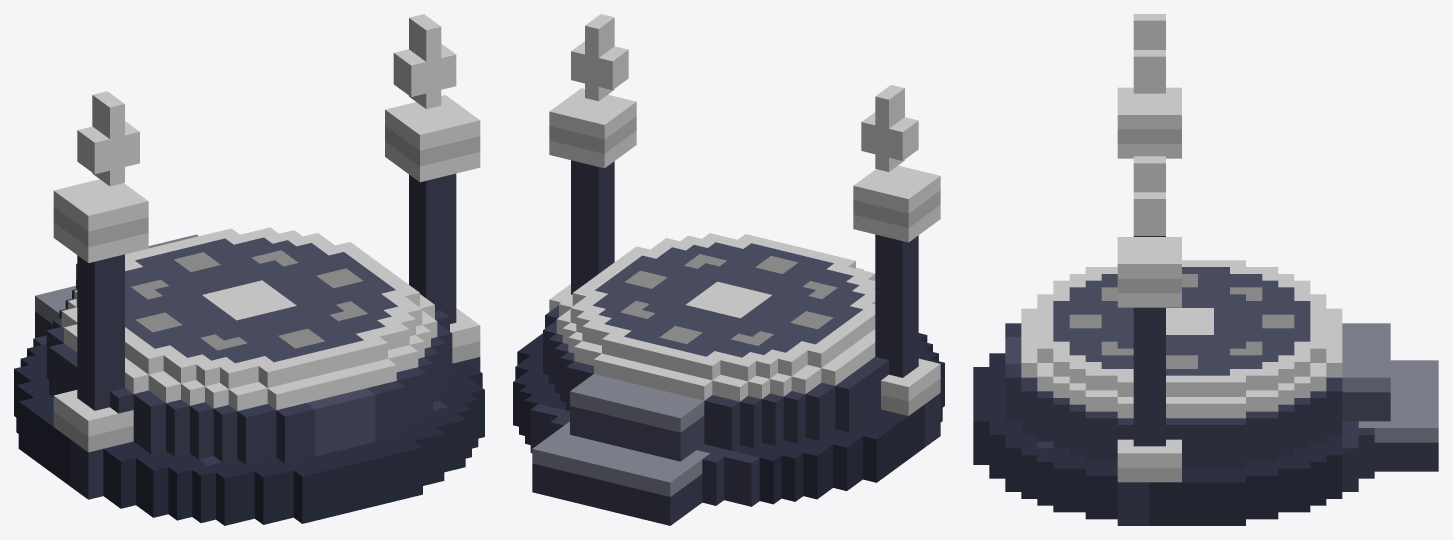
The model's file is pad_pilot.glb.
3 views of the same model, side by side, from view 1: azimuth 30°, elevation 25°; view 2: azimuth 150°, elevation 25°; view 3: azimuth 270°, elevation 25° (orthographic). The views are drawn at different scales.
Parts seen in each view (by area): view 1: PadStone, PadGlow, PadTrim; view 2: PadStone, PadGlow, PadTrim; view 3: PadStone, PadGlow, PadTrim.
Boxes of the visible parts, x1,y1,x2,y2 form: PadStone: (14,173,484,525); PadGlow: (76,14,456,388); PadTrim: (53,95,480,452); PadStone: (513,160,944,525); PadGlow: (570,14,918,381); PadTrim: (549,88,940,415); PadStone: (973,236,1438,525); PadGlow: (1037,14,1326,396); PadTrim: (1021,87,1342,482).
Size of the model in its own units: 10.4 by 9.6 by 11.6.
